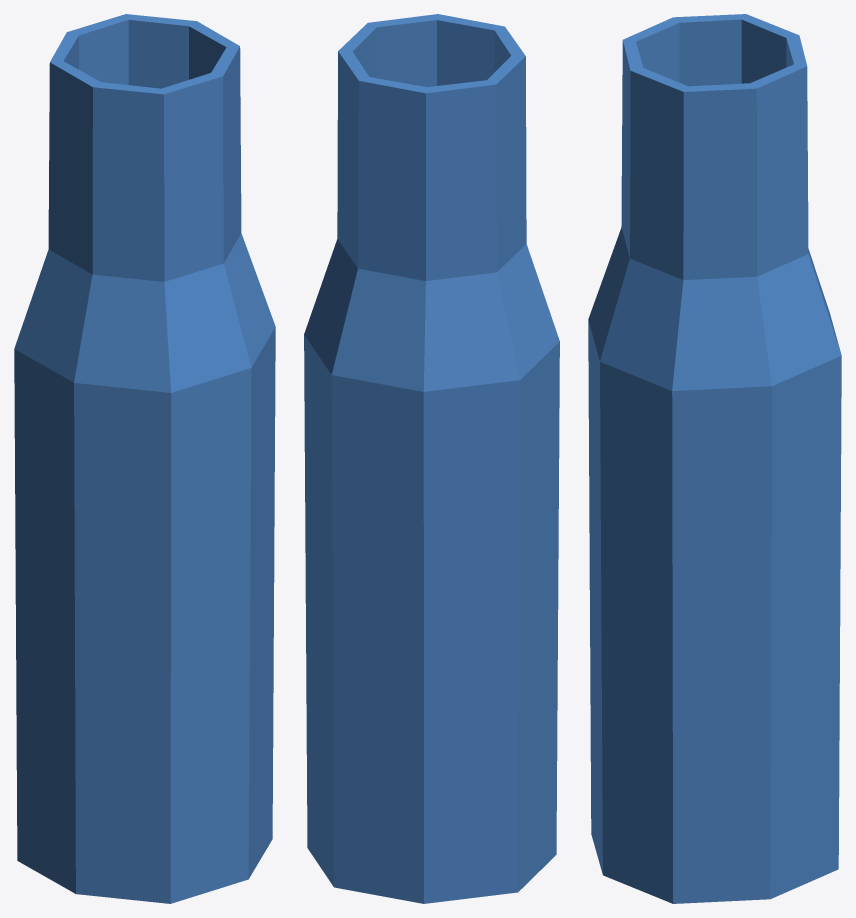
Rendered from Livingroom2_Vase_2.fbx.
3 views of the same model, side by side, from view 1: azimuth 30°, elevation 25°; view 2: azimuth 150°, elevation 25°; view 3: azimuth 270°, elevation 25° (orthographic).
Parts seen in each view (by area): view 1: Livingroom2_Vase_2; view 2: Livingroom2_Vase_2; view 3: Livingroom2_Vase_2.
Boxes of the visible parts, <box> form: Livingroom2_Vase_2: <box>14,14,275,903</box>; Livingroom2_Vase_2: <box>304,14,559,903</box>; Livingroom2_Vase_2: <box>588,14,841,903</box>.
Size of the model in its own units: 8.94 by 31.3 by 8.94.
